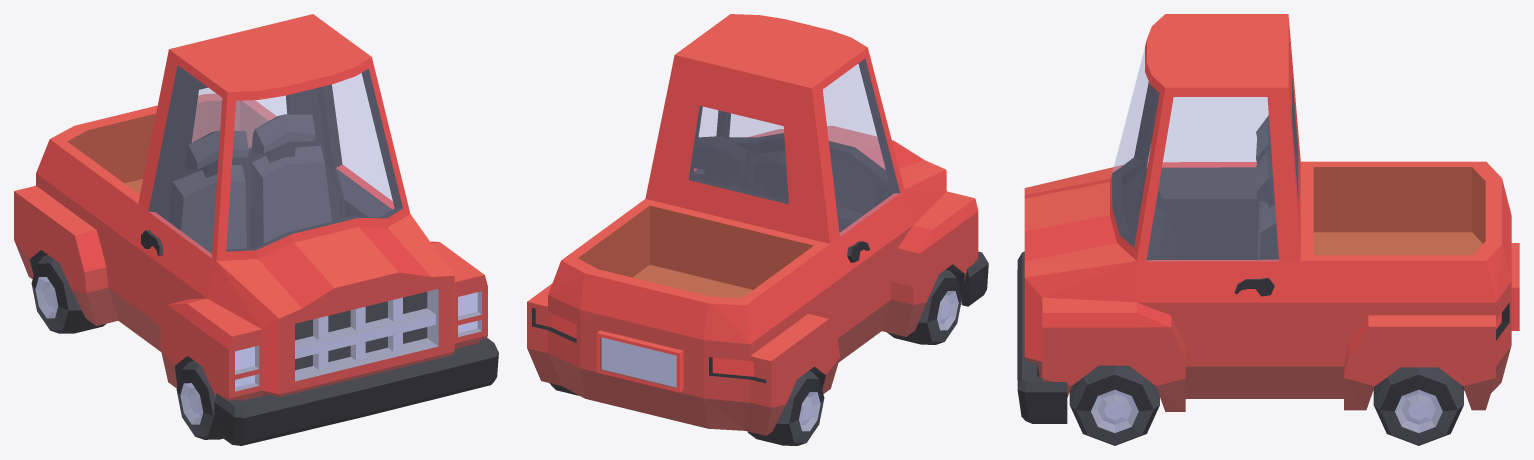
The model's file is red-racer-pickup.glb.
3 renders of one model, left to right at view 1: azimuth 30°, elevation 25°; view 2: azimuth 150°, elevation 25°; view 3: azimuth 270°, elevation 25°, orthographic. The views are drawn at different scales.
Parts seen in each view (by area): view 1: Car02_1, Car02_1_DR, Car02_1_AdF, Car02_1_DL, Car02_1_WhBR, Car02_1_WhFR; view 2: Car02_1, Car02_1_DR, Car02_1_WhBR, Car02_1_WhFR, Car02_1_AdF, Car02_1_DL; view 3: Car02_1, Car02_1_DL, Car02_1_DR, Car02_1_WhBL, Car02_1_WhFL, Car02_1_AdF.
Boxes of the visible parts, x1,y1,x2,y2 form: Car02_1: (14,14,487,400); Car02_1_DR: (139,66,221,335); Car02_1_AdF: (214,338,498,445); Car02_1_DL: (332,74,394,218); Car02_1_WhBR: (31,255,106,333); Car02_1_WhFR: (176,361,222,439); Car02_1: (527,14,978,435); Car02_1_DR: (823,59,901,342); Car02_1_WhBR: (748,371,824,445); Car02_1_WhFR: (887,269,962,344); Car02_1_AdF: (961,251,988,306); Car02_1_DL: (693,107,717,174); Car02_1: (1024,14,1519,411); Car02_1_DL: (1146,97,1278,379); Car02_1_DR: (1146,97,1267,259); Car02_1_WhBL: (1373,367,1463,445); Car02_1_WhFL: (1069,365,1159,445); Car02_1_AdF: (1017,251,1067,423).
Size of the model in its own units: 2.93 by 3.37 by 4.6.
Materials: 3 (3 with a texture image).
